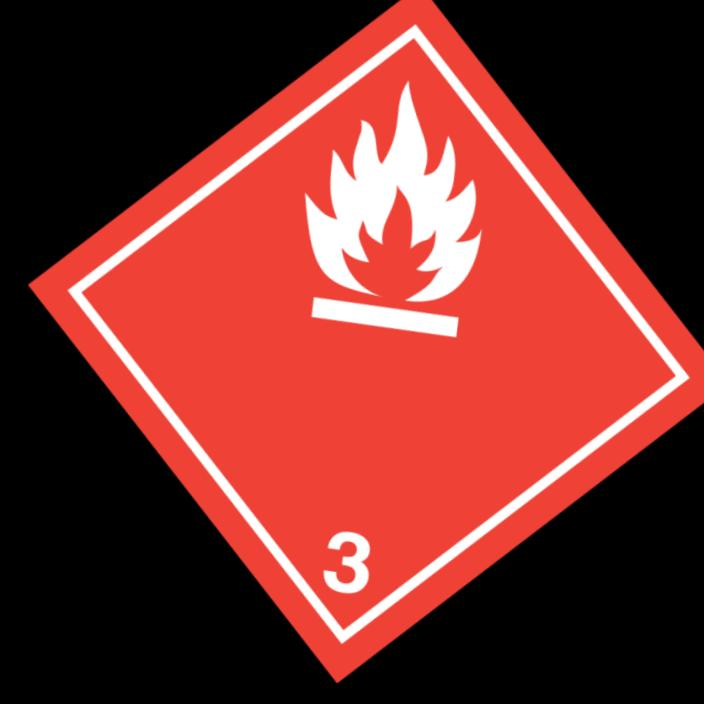can and bottle trash cans: (28, 0, 704, 682)
